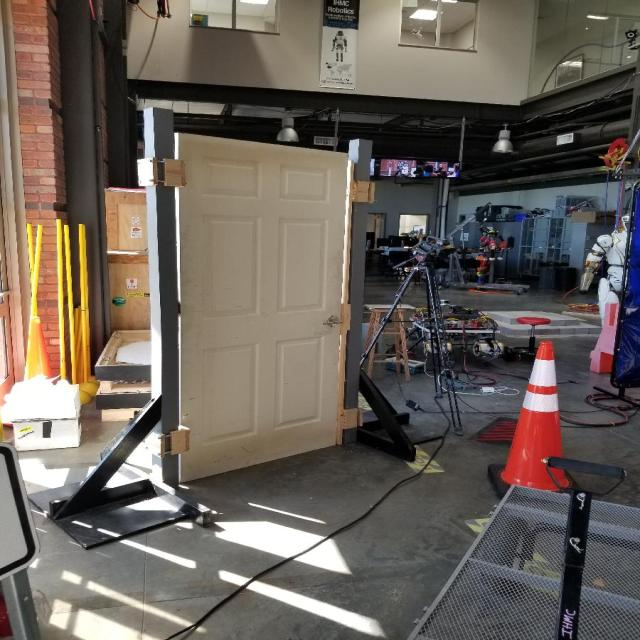doorhandle: (319, 313, 346, 330)
